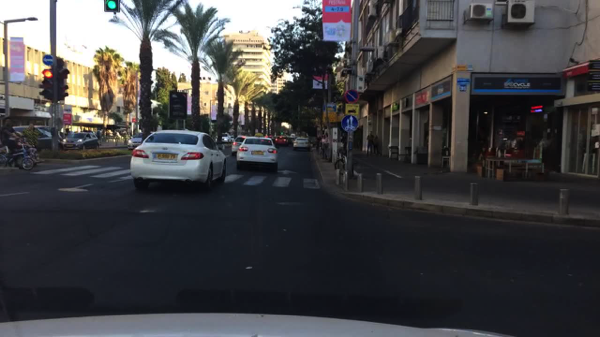bike: (0, 133, 40, 170), (334, 151, 355, 179)
car: (129, 128, 227, 192), (236, 132, 279, 173), (11, 125, 63, 149), (61, 131, 99, 150), (126, 131, 155, 150), (230, 135, 247, 156), (293, 138, 311, 152), (214, 133, 232, 144), (274, 136, 289, 147), (265, 134, 275, 144), (285, 135, 294, 144), (229, 136, 236, 143), (289, 133, 295, 138)
person: (365, 130, 374, 156), (371, 132, 380, 155), (318, 134, 326, 157), (322, 134, 329, 160), (96, 127, 104, 147), (314, 135, 322, 151), (340, 132, 347, 148), (105, 128, 113, 137), (64, 128, 72, 135)
rider: (1, 116, 27, 166)
traffic light: (54, 68, 70, 101), (41, 69, 53, 102), (103, 1, 122, 12)
traffic sign: (322, 0, 351, 43), (340, 115, 358, 133), (322, 110, 346, 122), (311, 74, 328, 90), (62, 103, 73, 125), (343, 88, 359, 103), (344, 103, 359, 116), (322, 101, 336, 113), (43, 53, 54, 66)
